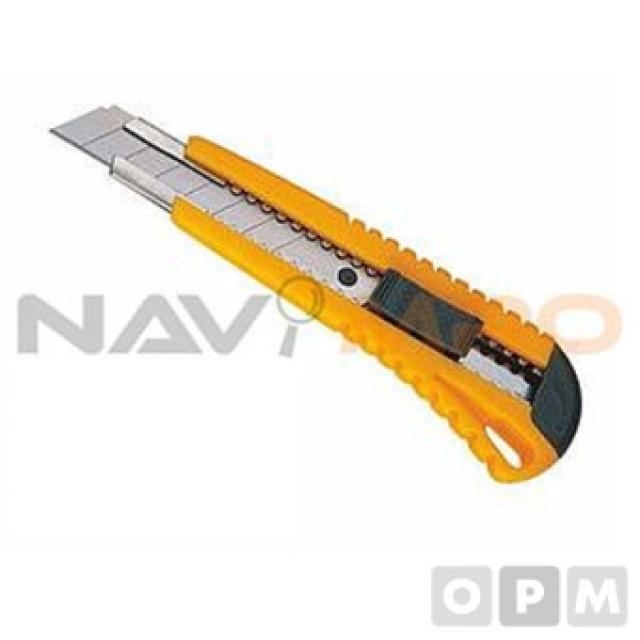cutter: (38, 89, 591, 488)
